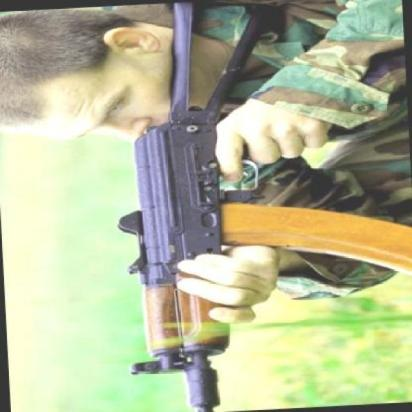Gun: (94, 0, 366, 412)
